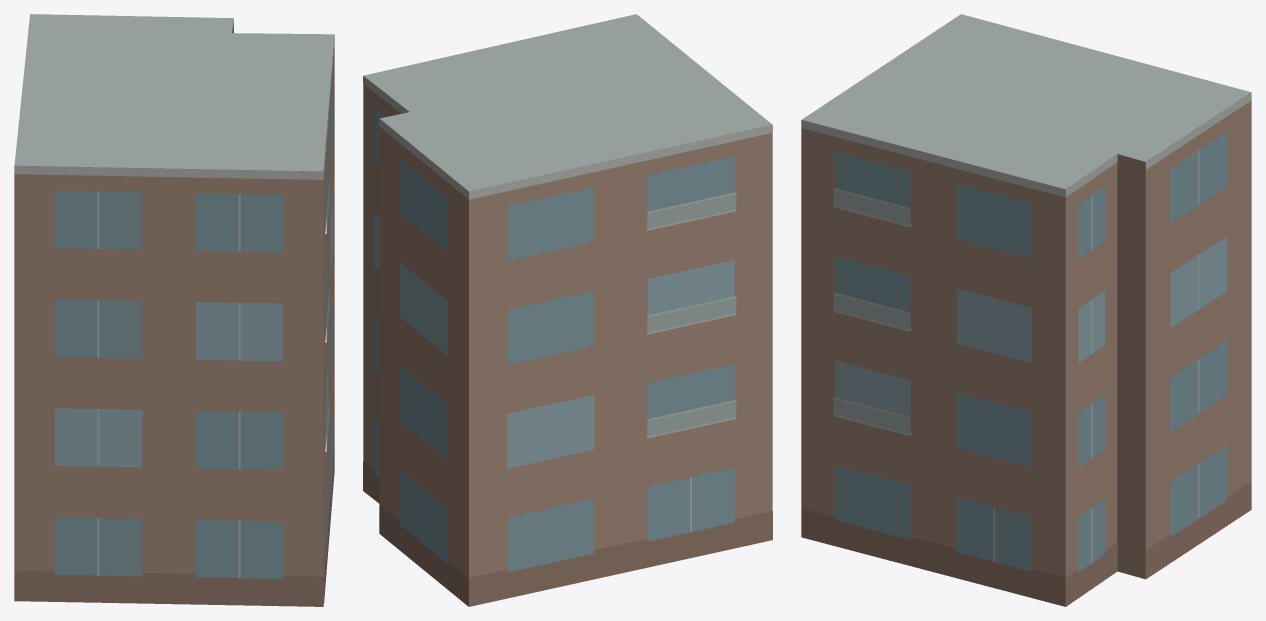
The model's file is survey-upis-33027033.glb.
The picture shows the model from 3 angles, left to right: view 1: azimuth 30°, elevation 25°; view 2: azimuth 150°, elevation 25°; view 3: azimuth 270°, elevation 25°; orthographic projection. The views are drawn at different scales.
Parts seen in each view (by area): view 1: survey-upis-33027033.tmp; view 2: survey-upis-33027033.tmp; view 3: survey-upis-33027033.tmp.
Boxes of the visible parts, x1,y1,x2,y2 form: survey-upis-33027033.tmp: [14, 14, 334, 606]; survey-upis-33027033.tmp: [363, 14, 772, 606]; survey-upis-33027033.tmp: [801, 14, 1251, 606].
Bounding box in the file's own units: 11.27 × 12.5 × 12.22.
